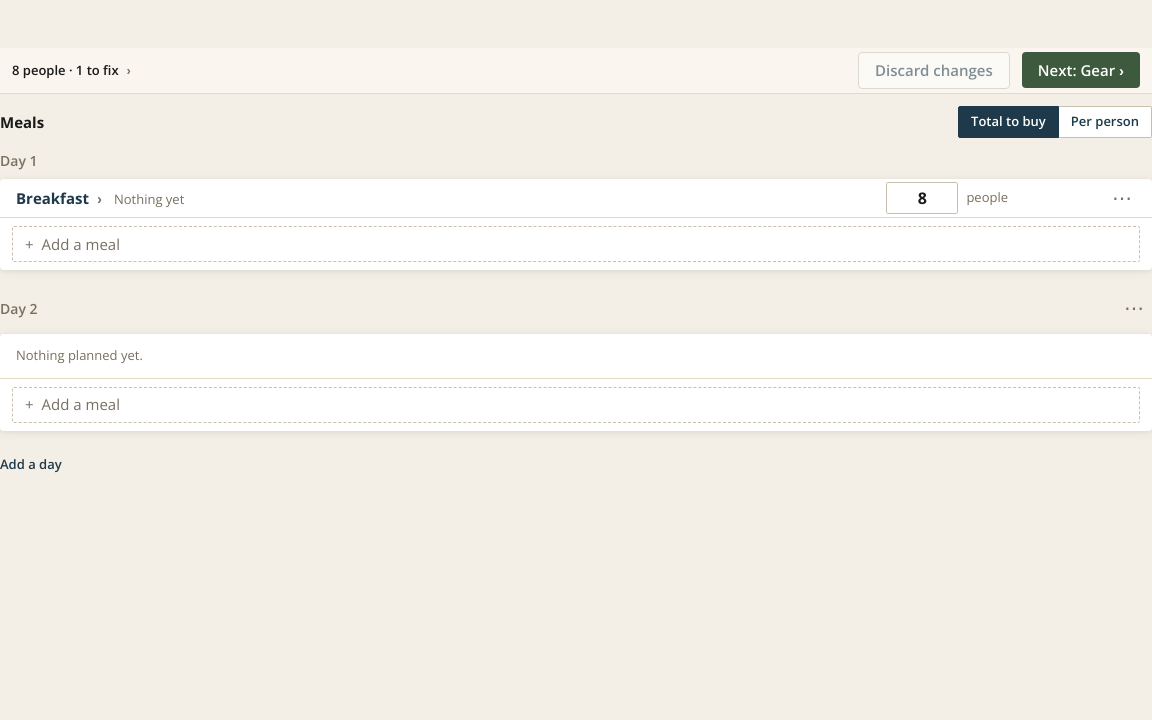
Test: PlanTab › RailFixLink_ToThisPagesMeal_OpensTheMealInPlace
Click the button "8 people · 1 to fix ›": coordinates (65, 70) [12,48,846,92]
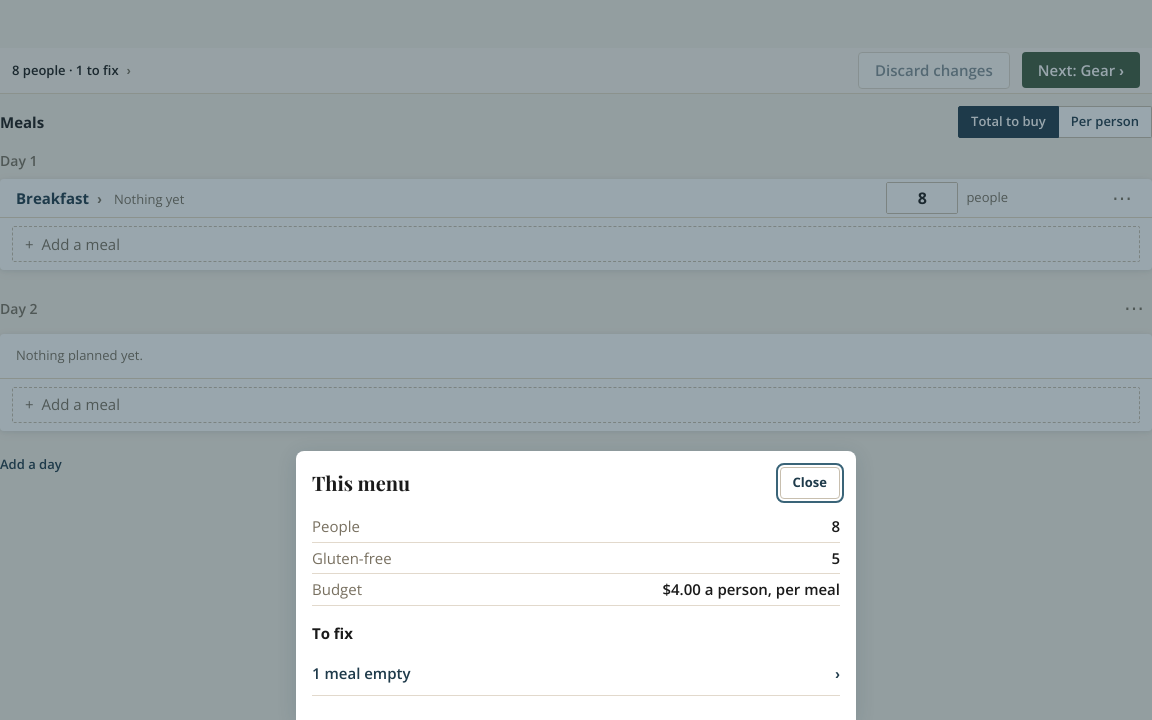
Click the link "1 meal empty ›": coordinates (361, 673) [312,652,840,696]
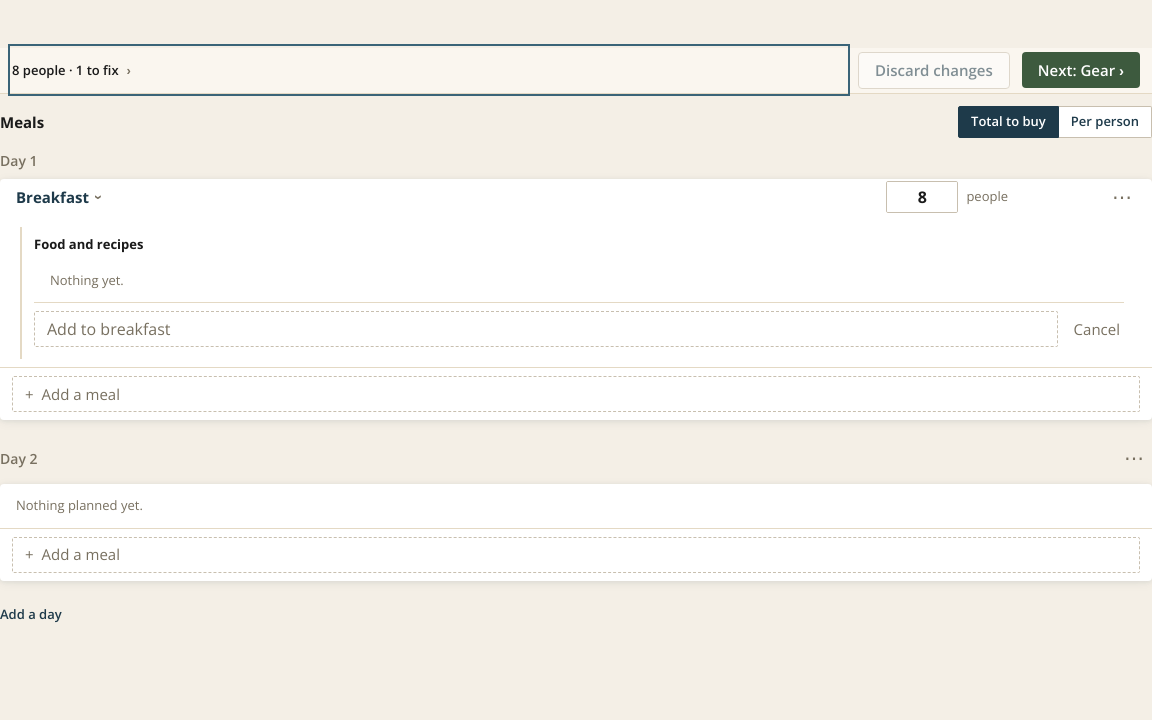
expect the button "Breakfast ›" is expanded: met, box [16,186,102,208]
